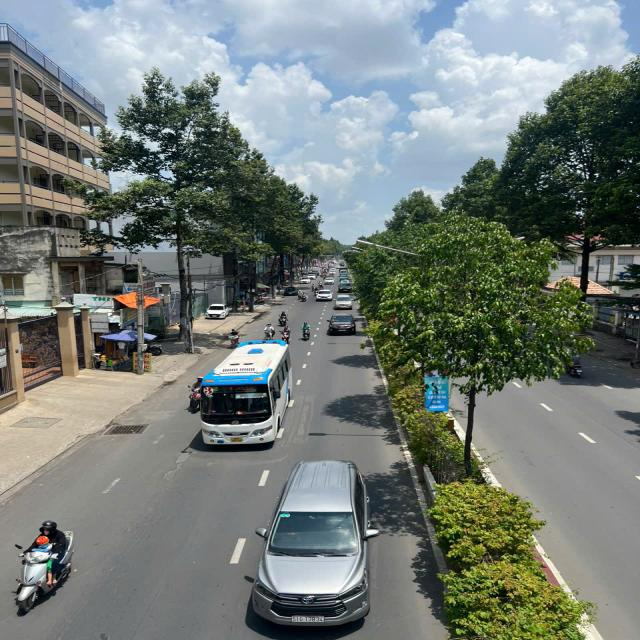Bicycle: (228, 329, 240, 346)
Bus: (201, 338, 294, 452)
Truck: (338, 268, 348, 275)
car: (253, 452, 381, 632), (328, 313, 358, 337), (335, 294, 352, 310), (317, 289, 332, 302), (285, 286, 297, 296), (339, 283, 351, 292), (324, 276, 334, 284), (300, 276, 310, 284), (339, 279, 350, 284), (338, 274, 348, 279), (308, 273, 316, 279), (328, 270, 335, 275), (331, 268, 336, 271)
motobyte: (184, 378, 202, 413), (300, 322, 311, 340), (263, 323, 274, 340), (281, 326, 291, 344), (278, 311, 288, 325), (302, 292, 307, 301), (316, 280, 322, 287), (298, 289, 302, 299), (310, 283, 314, 292)
